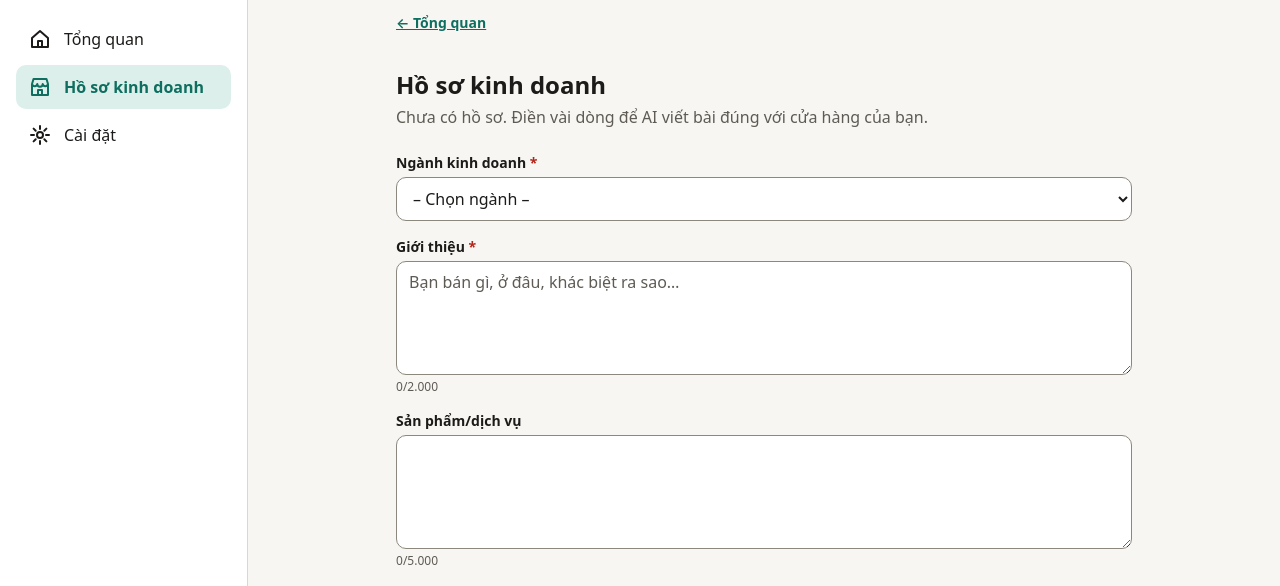
Scenario: BusinessProfilePage – chủ tài khoản › lưu: "Đang lưu…" vô hiệu khi chờ, rồi role=status "Đã lưu phiên bản 1"
Select "Thời trang" in the dropdown labelled "Ngành kinh doanh *" at [764, 199], box [396,177,1132,221]
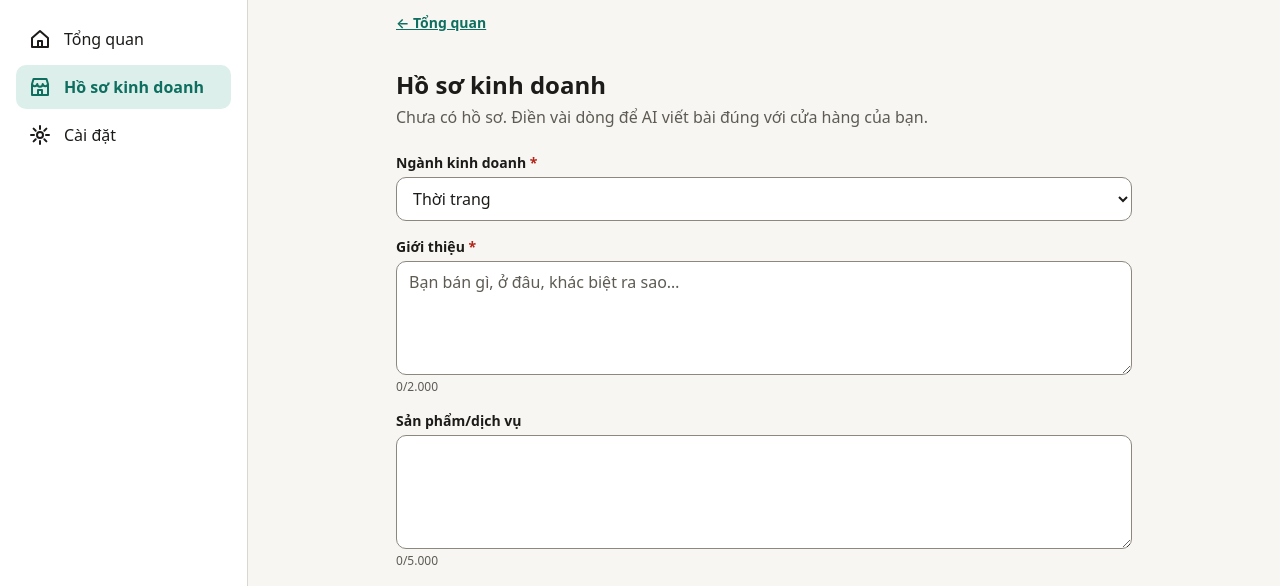
Type "Tiệm áo dài" into the text box labelled "Giới thiệu *" at [764, 318], box [396,261,1132,375]
(page scrolled)
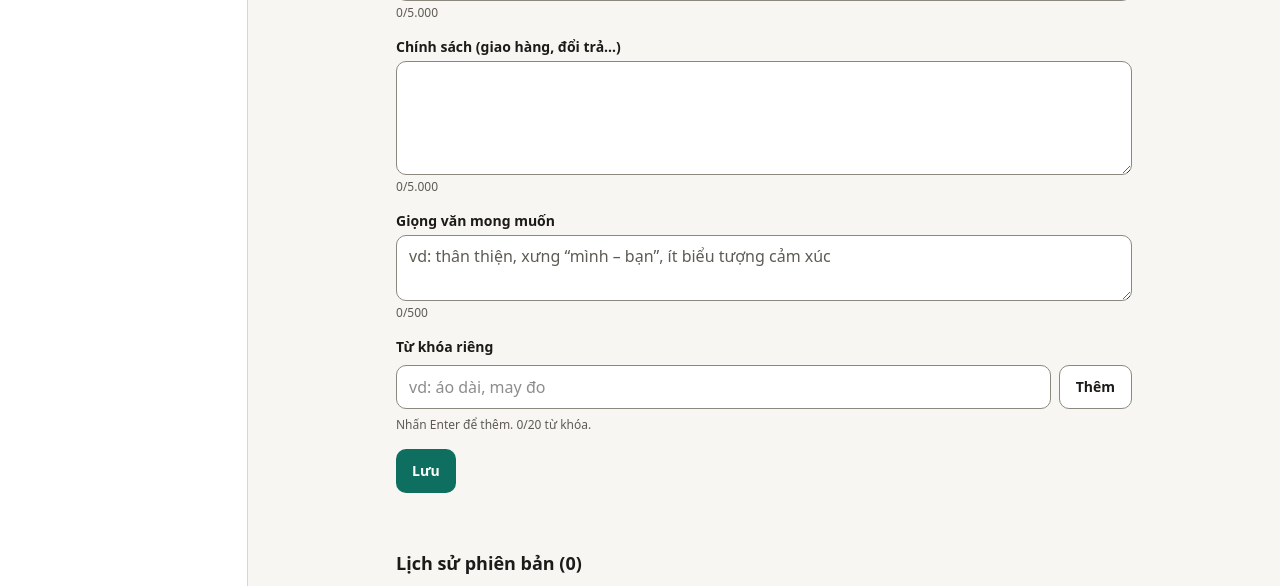
Click the button "Lưu" at [426, 471], box [396,449,456,493]
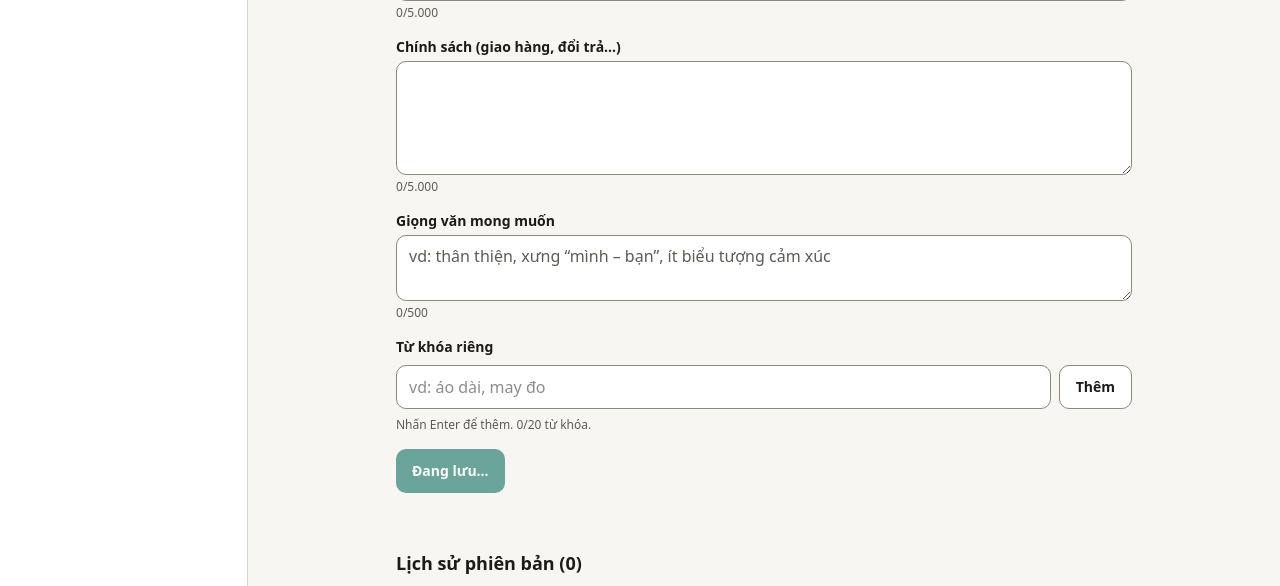
Result: the button "Đang lưu…" is disabled
// Bấm lần nữa không gửi yêu cầu thứ hai.
Click the button "Đang lưu…" at [450, 471], box [396,449,505,493]
(page scrolled)
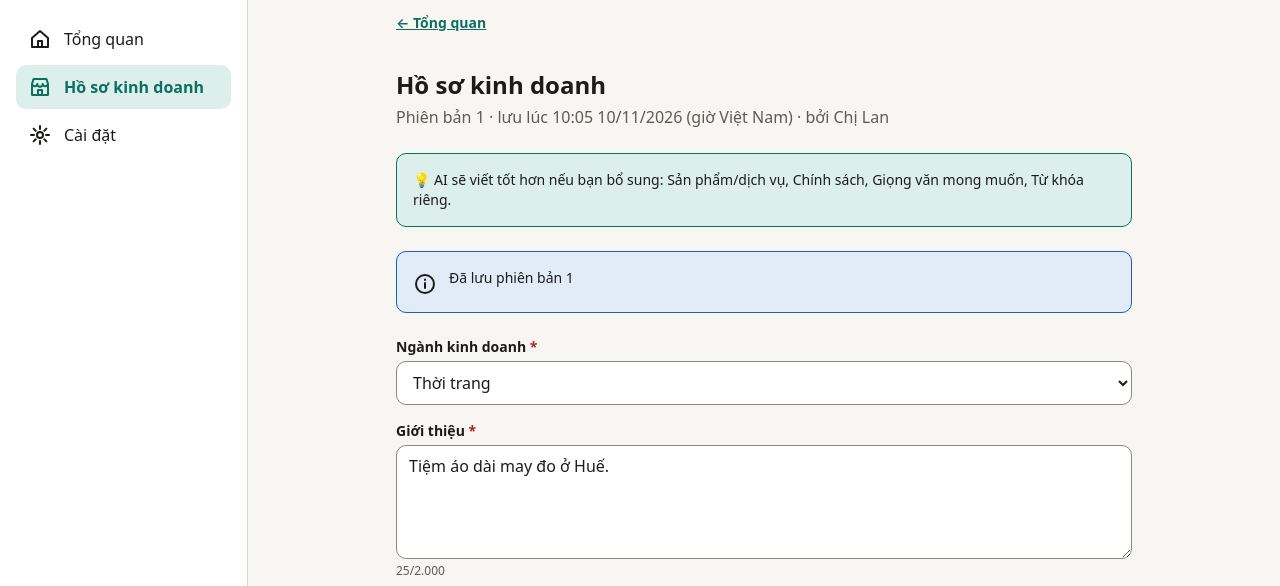
Result: the message reads "Đã lưu phiên bản 1" at [449,268,574,287]
